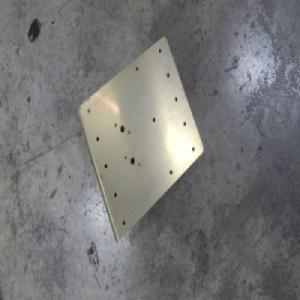MetalSheet: (74, 34, 204, 245)
